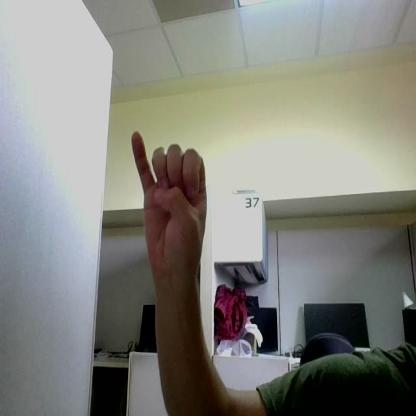I: (132, 131, 206, 272)
